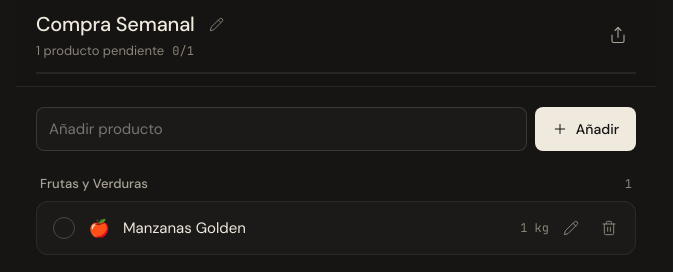
Test: MarketActiveList Component › shows autocomplete suggestions dropdown when typing and selects on click
In the field with placeholder "Añadir producto": x=281, y=129 [36,107,527,151], type "Lec"
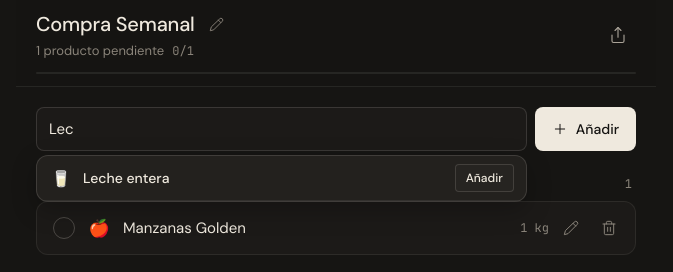
Now the element with test id "product-suggestions-dropdown" is shown, box [36,155,527,202]
Now the text "Leche entera" is shown
Click the text "Leche entera": x=126, y=178 [83,169,170,187]
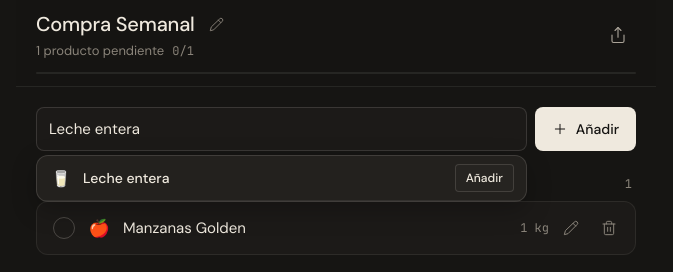
Now the field with placeholder "Añadir producto" holds "Leche entera", box [36,107,527,151]
